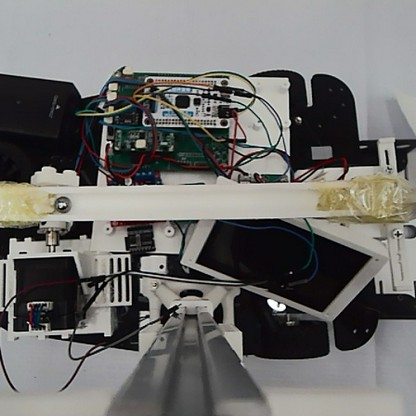ironball: (53, 193, 71, 215)
